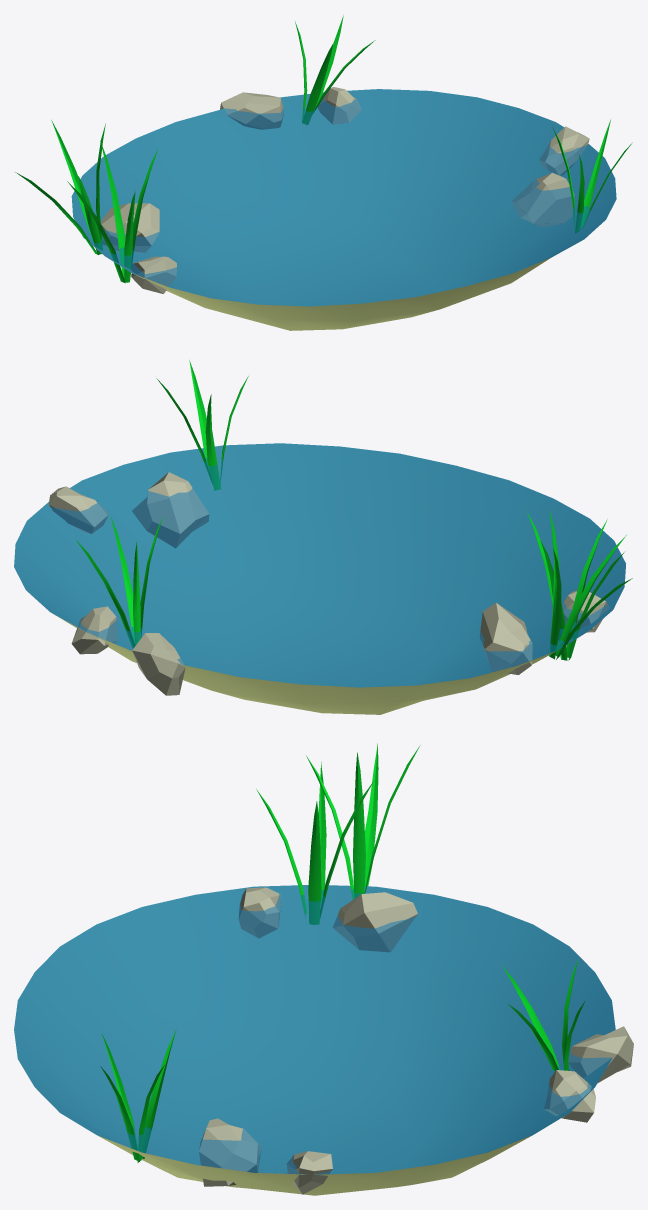
File: 水たまり.fbx
The picture shows the model from 3 angles, top to bottom: view 1: azimuth 30°, elevation 25°; view 2: azimuth 150°, elevation 25°; view 3: azimuth 270°, elevation 25°; orthographic projection. The views are drawn at different scales.
Visible parts, largest first — view 1: Cube; view 2: Cube; view 3: Cube.
Part boxes in pixels (<box>): Cube: <box>15,15,632,330</box>; Cube: <box>14,360,632,714</box>; Cube: <box>14,743,633,1195</box>.
Bounding box in the file's own units: 40.21 × 14.85 × 31.9.
